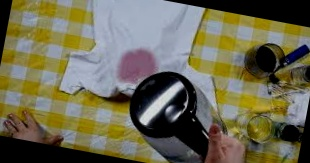wine: (113, 44, 158, 87)
